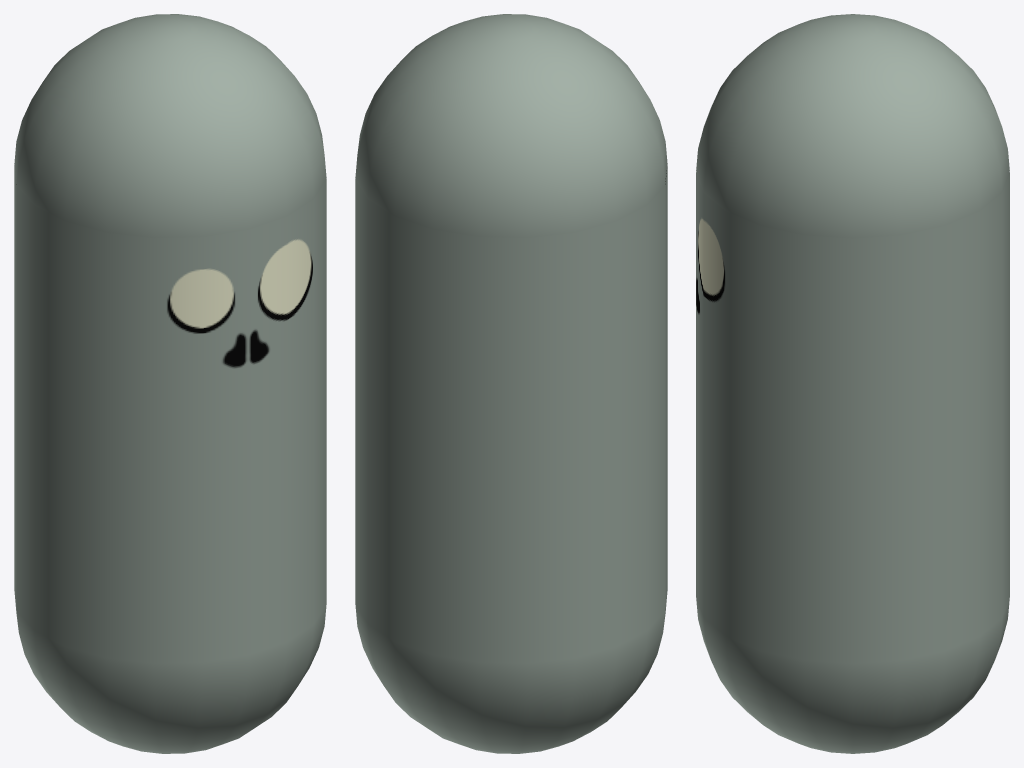
File: monster.fbx
The picture shows the model from 3 angles, left to right: view 1: azimuth 30°, elevation 25°; view 2: azimuth 150°, elevation 25°; view 3: azimuth 270°, elevation 25°; orthographic projection.
Visible parts, largest first — view 1: polySurface2, pasted__pSphere3, pSphere3; view 2: polySurface2, pasted__pSphere3, pSphere3; view 3: polySurface2, pasted__pSphere3, pSphere3.
Part boxes in pixels (left/top/right/bottom): polySurface2: left=14, top=165, right=326, bottom=663; pasted__pSphere3: left=14, top=14, right=326, bottom=238; pSphere3: left=14, top=594, right=326, bottom=753; polySurface2: left=355, top=165, right=667, bottom=663; pasted__pSphere3: left=355, top=14, right=667, bottom=237; pSphere3: left=355, top=594, right=667, bottom=753; polySurface2: left=696, top=172, right=1009, bottom=663; pasted__pSphere3: left=696, top=14, right=1009, bottom=238; pSphere3: left=696, top=598, right=1009, bottom=753.
Size of the model in its own units: 2 by 5 by 2.
4 materials, 4 textured.
